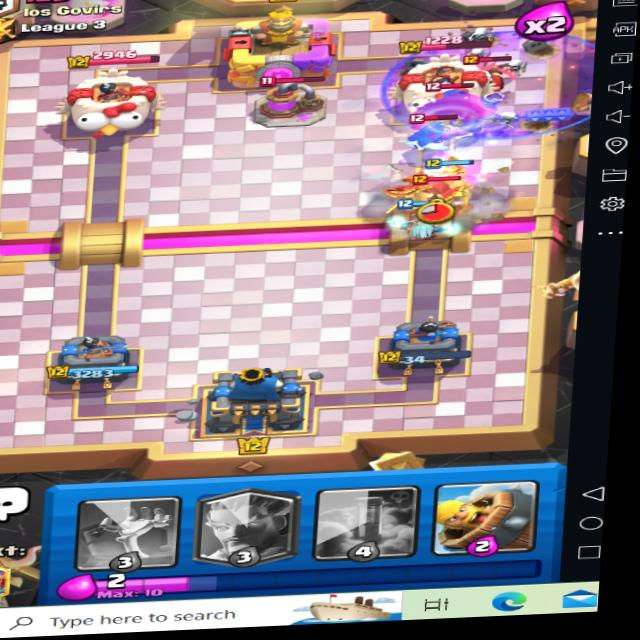bandit: (371, 120, 462, 155)
elixir-collector: (228, 64, 352, 133)
magic-archer: (462, 48, 511, 98)
skeleton-king: (428, 94, 503, 143)
